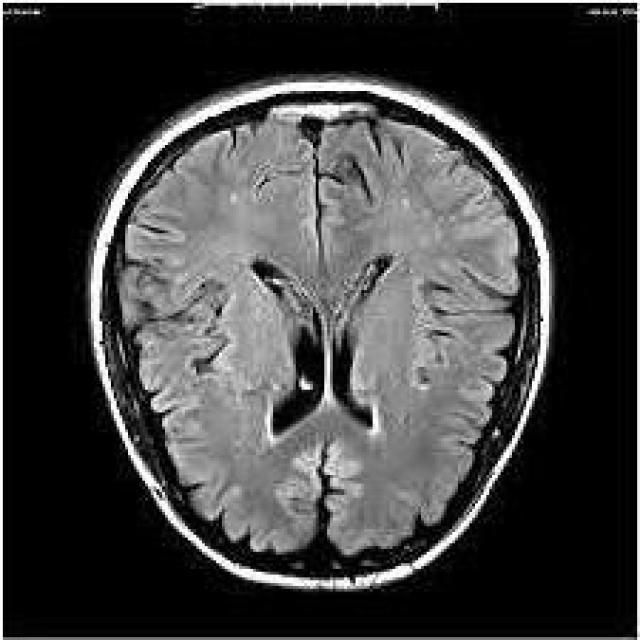notumor: (88, 80, 555, 594)
